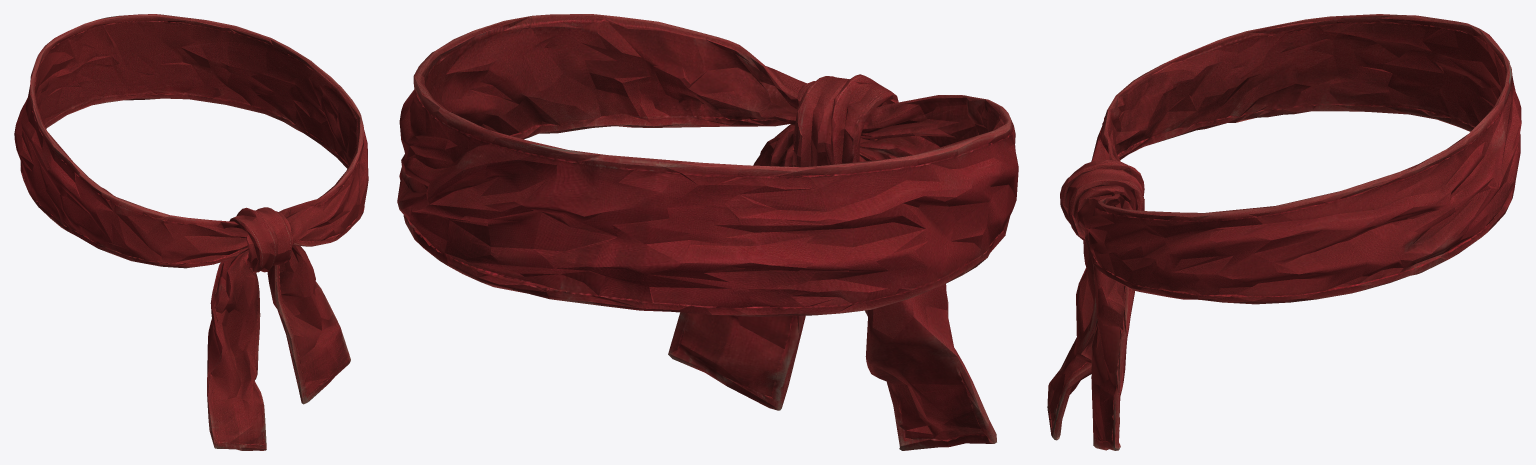
The model's file is acc_headband_red_image.glb.
The picture shows the model from 3 angles, left to right: view 1: azimuth 30°, elevation 25°; view 2: azimuth 150°, elevation 25°; view 3: azimuth 270°, elevation 25°; orthographic projection. The views are drawn at different scales.
Size of the model in its own units: 1.75 by 1.68 by 1.9.
1 material, 1 textured.
